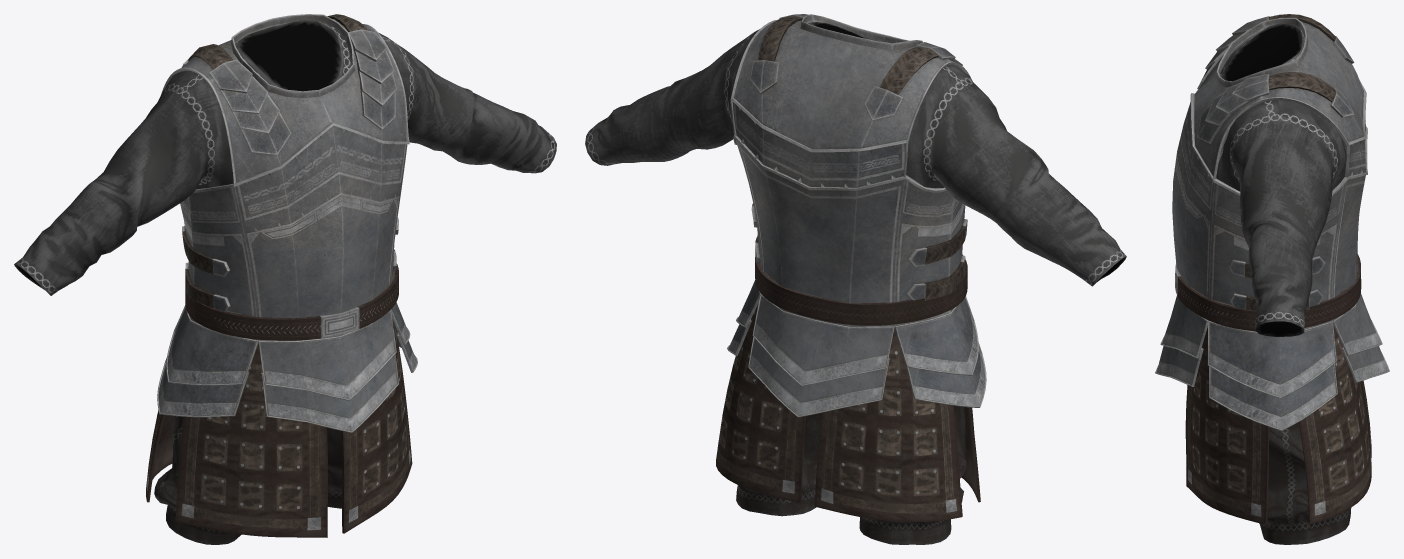
The model's file is sk_dwarf_erebor_chest_plate_heavy_e.fbx.
The picture shows the model from 3 angles, left to right: view 1: azimuth 30°, elevation 25°; view 2: azimuth 150°, elevation 25°; view 3: azimuth 270°, elevation 25°; orthographic projection. The views are drawn at different scales.
Visible parts, largest first — view 1: sk_dwarf_erebor_chest_plate_heavy_e.2, sk_dwarf_erebor_chest_plate_heavy_e.0, sk_dwarf_erebor_chest_plate_heavy_e.1; view 2: sk_dwarf_erebor_chest_plate_heavy_e.2, sk_dwarf_erebor_chest_plate_heavy_e.0, sk_dwarf_erebor_chest_plate_heavy_e.1; view 3: sk_dwarf_erebor_chest_plate_heavy_e.2, sk_dwarf_erebor_chest_plate_heavy_e.0, sk_dwarf_erebor_chest_plate_heavy_e.1.
Boxes of the visible parts, x1,y1,x2,y2 form: sk_dwarf_erebor_chest_plate_heavy_e.2: (157,14,417,432); sk_dwarf_erebor_chest_plate_heavy_e.0: (14,20,556,537); sk_dwarf_erebor_chest_plate_heavy_e.1: (154,416,342,544); sk_dwarf_erebor_chest_plate_heavy_e.2: (727,14,986,417); sk_dwarf_erebor_chest_plate_heavy_e.0: (585,22,1126,522); sk_dwarf_erebor_chest_plate_heavy_e.1: (736,405,966,544); sk_dwarf_erebor_chest_plate_heavy_e.2: (1155,14,1389,430); sk_dwarf_erebor_chest_plate_heavy_e.0: (1175,23,1371,524); sk_dwarf_erebor_chest_plate_heavy_e.1: (1259,422,1351,544).
Bounding box in the file's own units: 1.17 × 0.4707 × 1.03.
3 materials, 3 textured.
